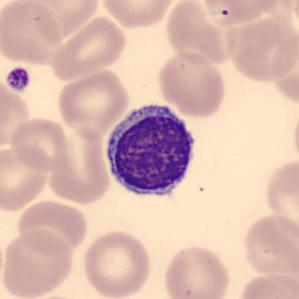Lymphocyte: (99, 96, 202, 204)
Platelets: (3, 66, 32, 93)
RBC: (31, 117, 113, 206), (1, 228, 78, 299), (223, 13, 298, 84), (80, 228, 154, 299), (50, 14, 128, 80), (155, 49, 228, 118), (56, 66, 131, 133), (163, 0, 234, 67), (0, 0, 66, 67), (14, 198, 90, 256), (161, 243, 233, 299), (7, 115, 74, 174), (240, 212, 298, 277), (0, 143, 51, 213), (19, 0, 103, 42), (262, 156, 298, 229), (0, 77, 35, 152), (99, 0, 178, 29), (198, 0, 282, 27), (272, 30, 299, 101), (236, 272, 298, 299), (290, 105, 299, 167)
